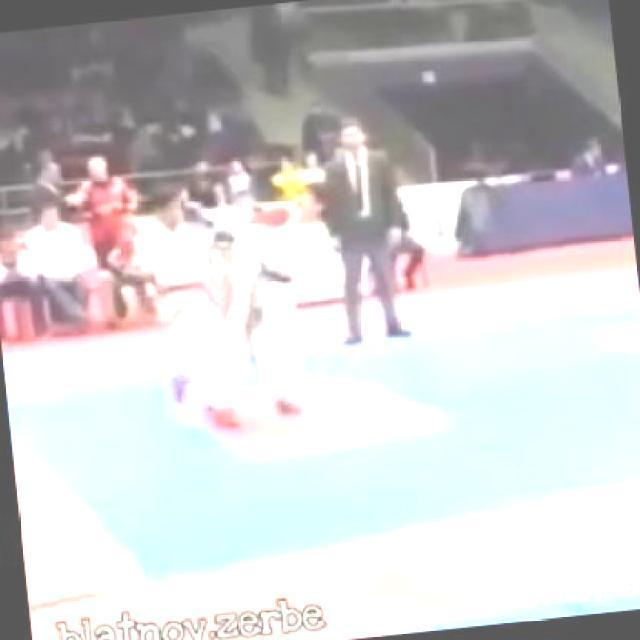fight: (108, 167, 358, 450)
